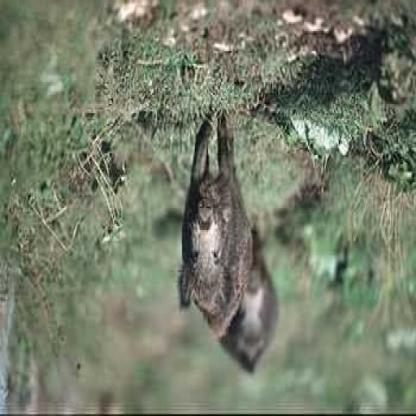boar: (139, 137, 266, 370)
